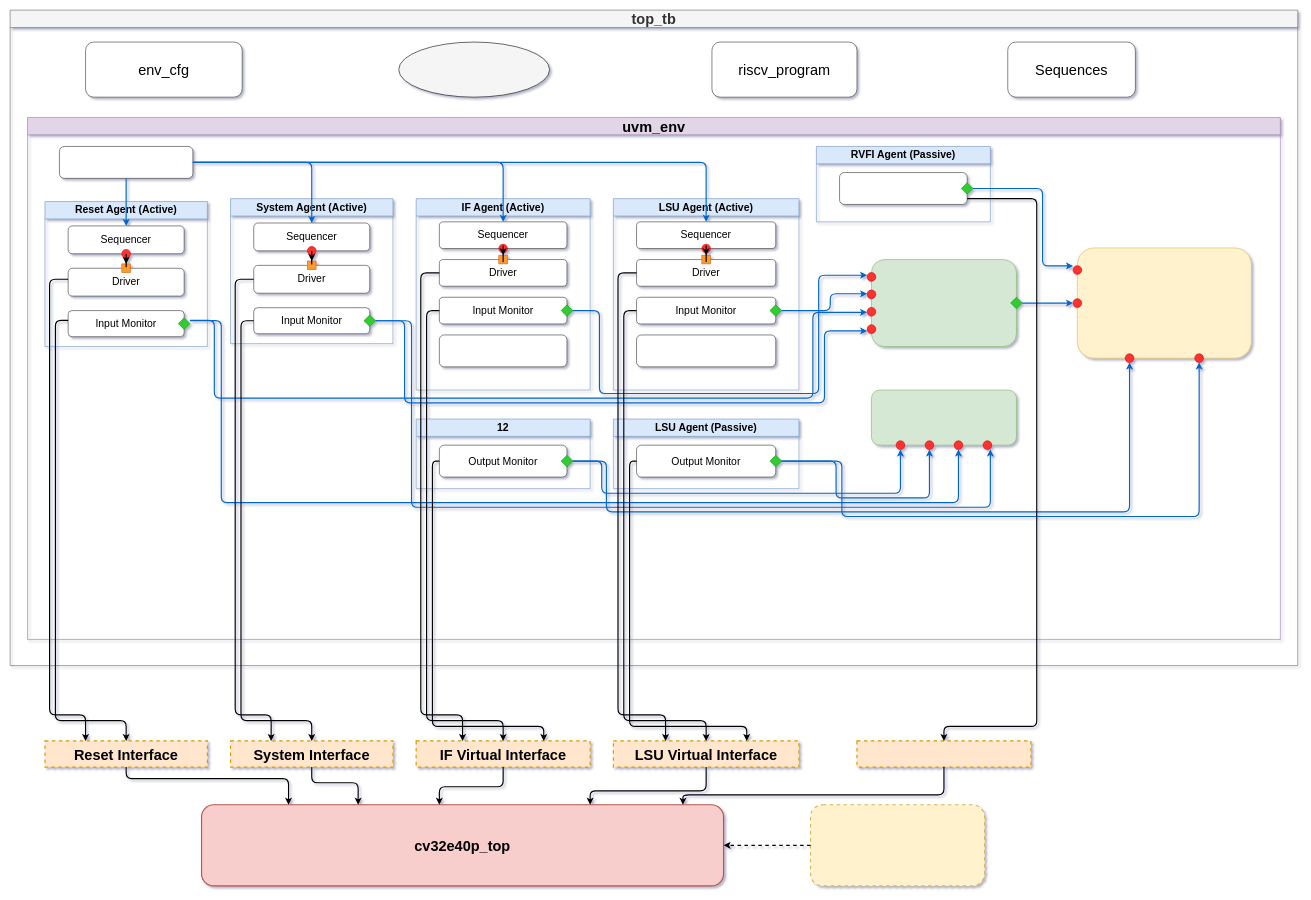
Some shapes in this 1311 by 900 pixel diagram are drawn without their labels. The shapes that lost their labels are listed below. From the top down, each one's centre as x and y in pixels, then its label:
At point (474, 69): "Virtual Sequences".
At point (126, 162): "Virtual Sequencer".
At point (903, 188): "rvfi_monitor".
At point (943, 303): "ref_model".
At point (1164, 302): "uvm_scoreboard".
At point (503, 350): "instr_mem_model".
At point (706, 350): "data_mem_model".
At point (943, 417): "Coverage".
At point (943, 753): "RVFI Interface".
At point (897, 845): "SVA".
